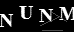M: (57, 6, 74, 21)
N: (37, 8, 54, 23), (1, 12, 13, 28)
U: (18, 5, 34, 20)
